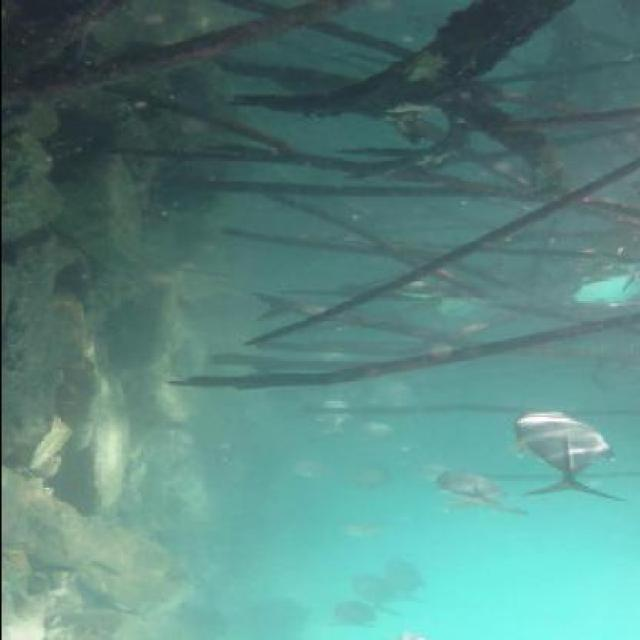Caranx_sexfasciatus_juvenile: (502, 408, 628, 506), (418, 465, 522, 518), (549, 261, 640, 314), (365, 556, 426, 606), (413, 288, 489, 328), (370, 268, 456, 301), (298, 395, 354, 442), (358, 372, 422, 413), (342, 569, 400, 614), (319, 596, 386, 629), (348, 411, 412, 444), (346, 459, 408, 492), (275, 452, 327, 490), (321, 514, 382, 538)
